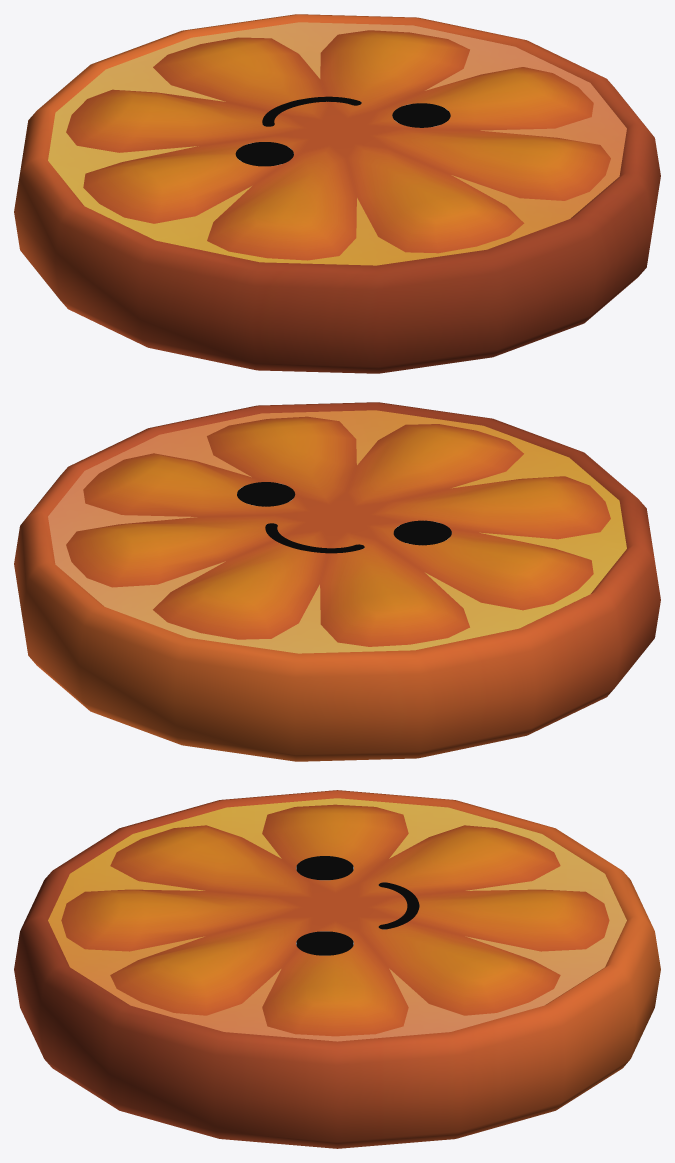
File: orange_slice_smile.fbx
3 views of the same model, one above another, from view 1: azimuth 30°, elevation 25°; view 2: azimuth 150°, elevation 25°; view 3: azimuth 270°, elevation 25° (orthographic).
Parts seen in each view (by area): view 1: orange_slice; view 2: orange_slice; view 3: orange_slice.
Boxes of the visible parts, <box> form: orange_slice: <box>14,14,660,373</box>; orange_slice: <box>14,402,660,761</box>; orange_slice: <box>14,790,660,1148</box>.
Bounding box in the file's own units: 48.75 × 48.75 × 10.88.
